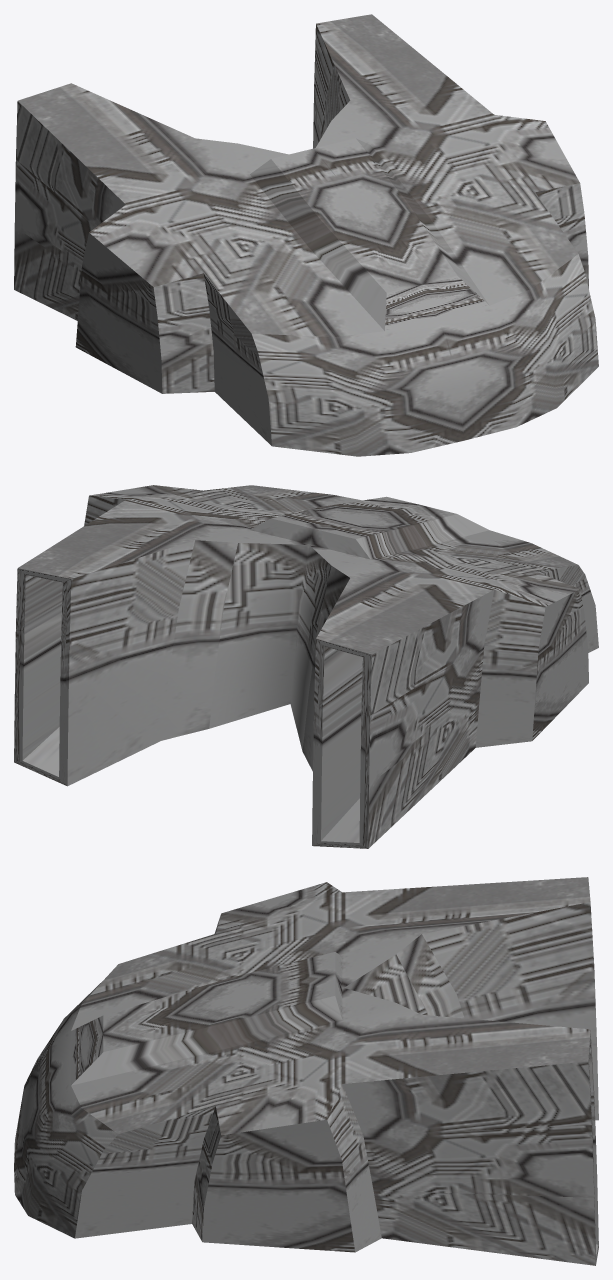
File: SPACESHIP.FBX
3 views of the same model, one above another, from view 1: azimuth 30°, elevation 25°; view 2: azimuth 150°, elevation 25°; view 3: azimuth 270°, elevation 25° (orthographic). The views are drawn at different scales.
Parts seen in each view (by area): view 1: Ship; view 2: Ship; view 3: Ship.
Boxes of the visible parts, x1,y1,x2,y2 form: Ship: (14,14,598,456); Ship: (14,485,598,848); Ship: (14,877,598,1265).
Bounding box in the file's own units: 91.95 × 39.36 × 95.65.
